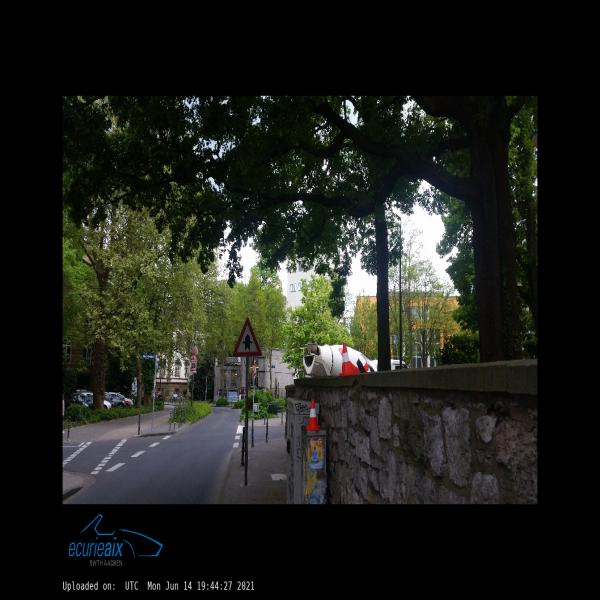orange_cone: (338, 344, 354, 375), (306, 399, 321, 430)
